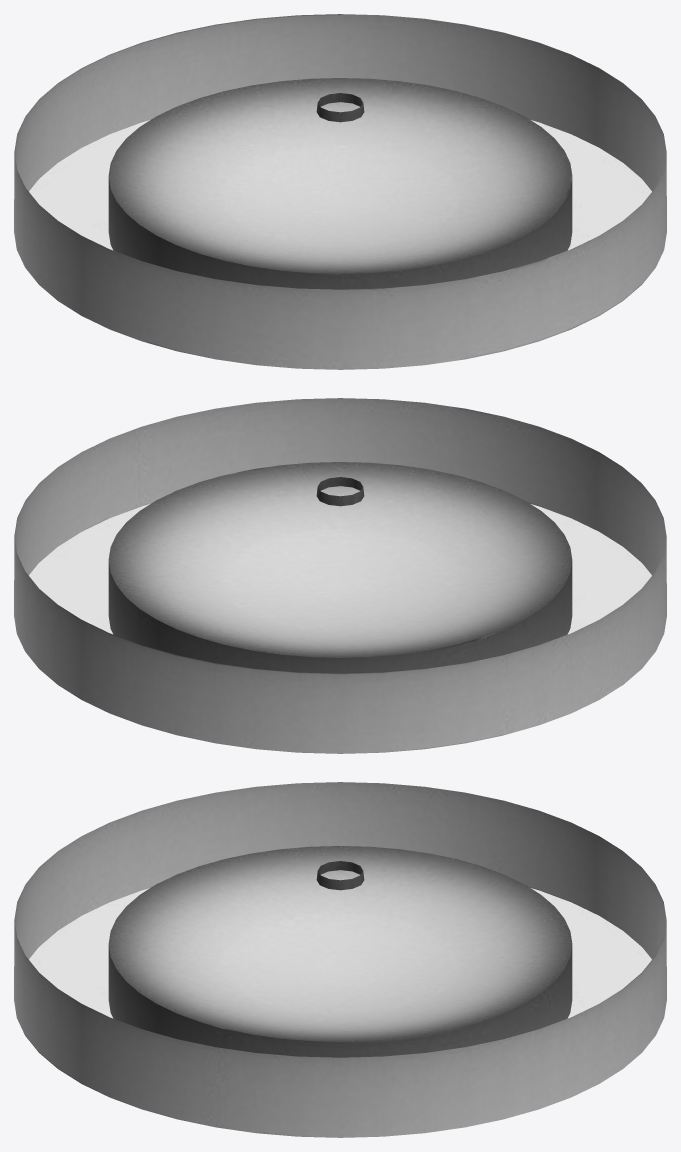
The picture shows the model from 3 angles, top to bottom: view 1: azimuth 30°, elevation 25°; view 2: azimuth 150°, elevation 25°; view 3: azimuth 270°, elevation 25°; orthographic projection.
Parts seen in each view (by area): view 1: tex_02_AO_dark; view 2: tex_02_AO_dark; view 3: tex_02_AO_dark.
Part boxes in pixels (left/top/right/bottom): tex_02_AO_dark: left=14, top=14, right=666, bottom=369; tex_02_AO_dark: left=14, top=398, right=666, bottom=753; tex_02_AO_dark: left=14, top=782, right=666, bottom=1137.
Bounding box in the file's own units: 1.84 × 0.4027 × 1.84.
1 material, 1 textured.
